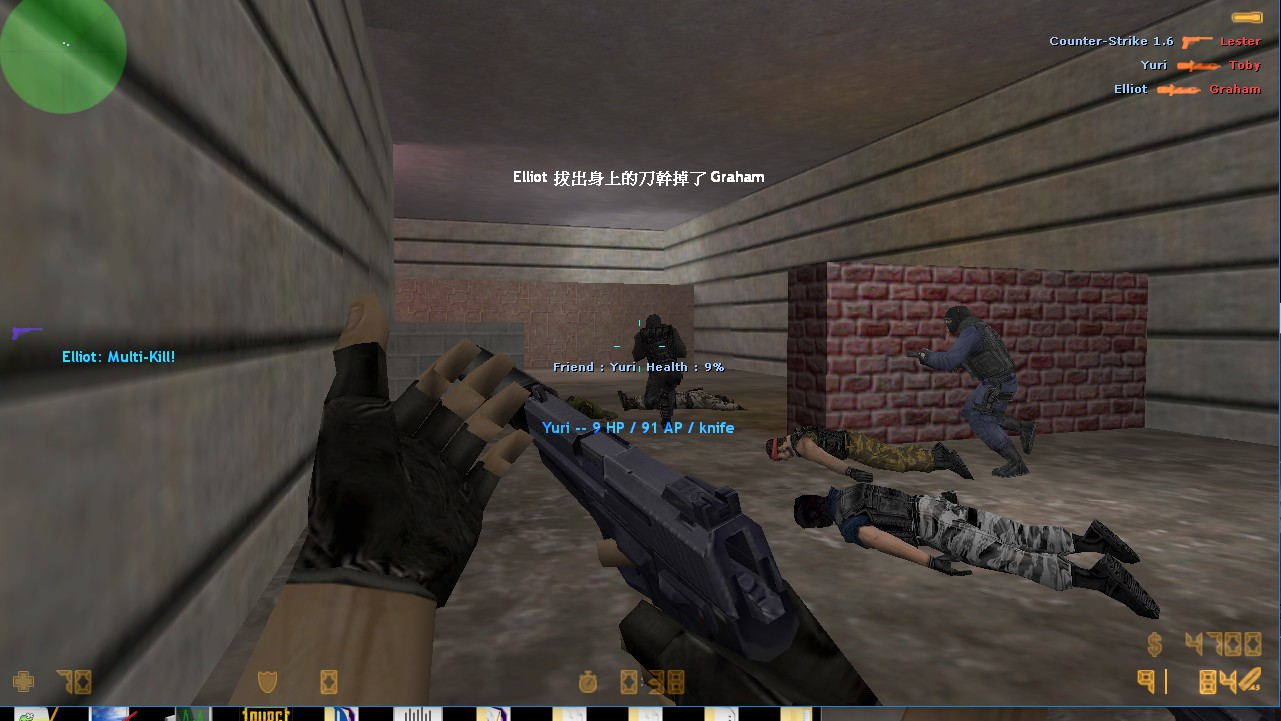person: (938, 304, 1044, 483), (634, 313, 691, 428)
